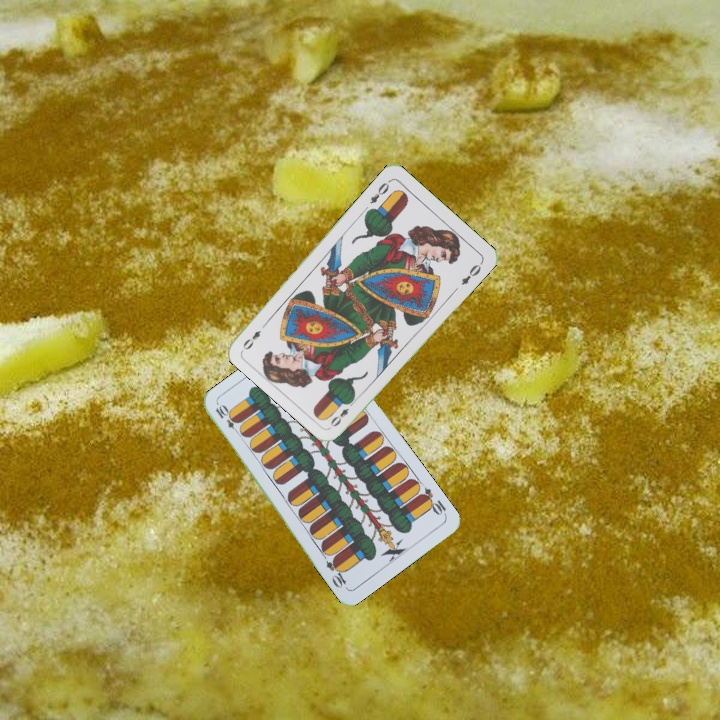E10: (416, 484, 449, 519), (211, 401, 243, 437)
EO: (326, 396, 358, 430), (366, 176, 393, 207)
